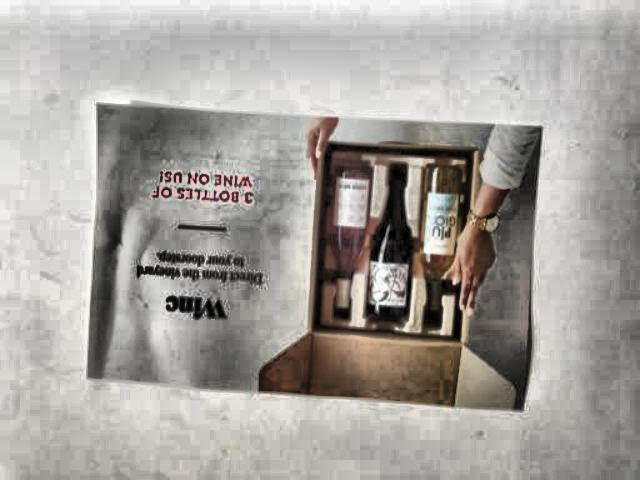Paper: (86, 97, 530, 411)
